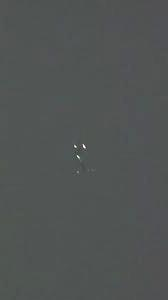Plane: (61, 129, 102, 190)
